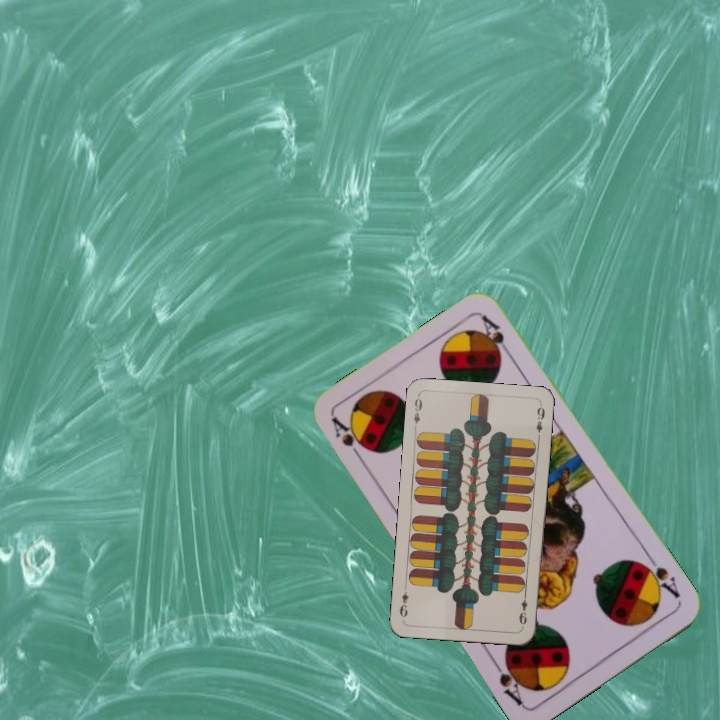E9: (409, 392, 425, 433), (515, 589, 530, 627)
SA: (636, 552, 683, 601), (327, 413, 370, 466)
